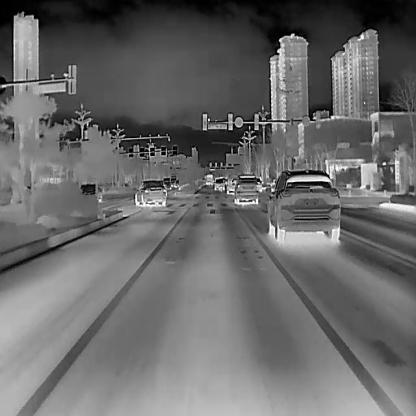car: (267, 168, 339, 239), (133, 180, 166, 204), (234, 174, 257, 201), (79, 182, 102, 201), (225, 173, 238, 194), (214, 177, 224, 190), (257, 175, 262, 193), (205, 174, 213, 184), (164, 181, 171, 190)
